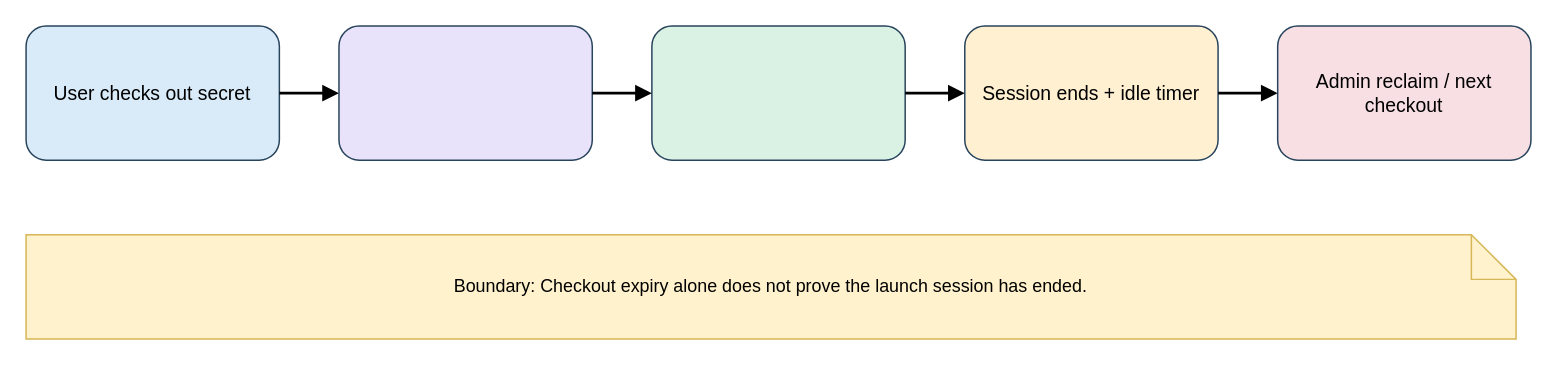
Image size: 1557x365. Some labels were removed from this diagram. Here are the shapes that lost their labels. From the top down, the centre of each, then its label:
At pixel 464 92: "Exclusive lock and duration".
At pixel 777 92: "Active launcher proxy session".
